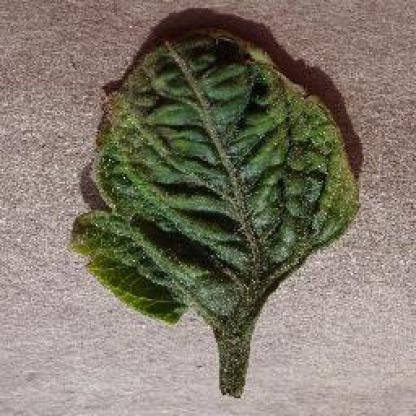bad leaf: (89, 216, 177, 315), (238, 36, 317, 131), (295, 144, 352, 215), (93, 89, 163, 146)
